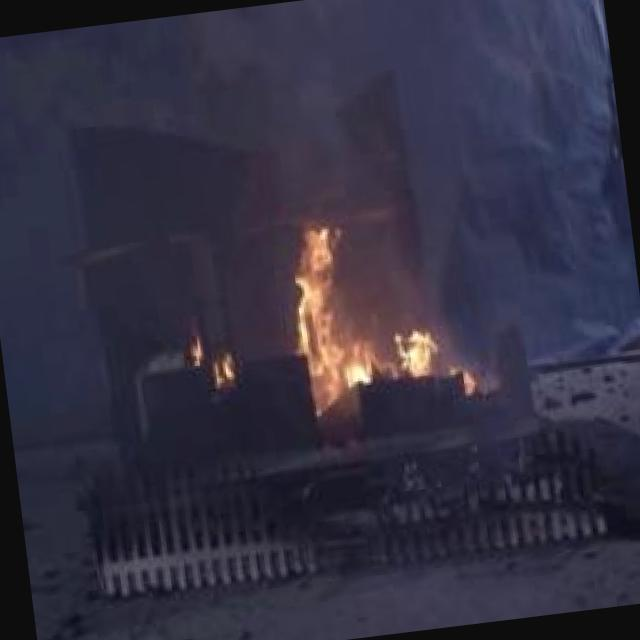fire: (267, 198, 458, 412)
